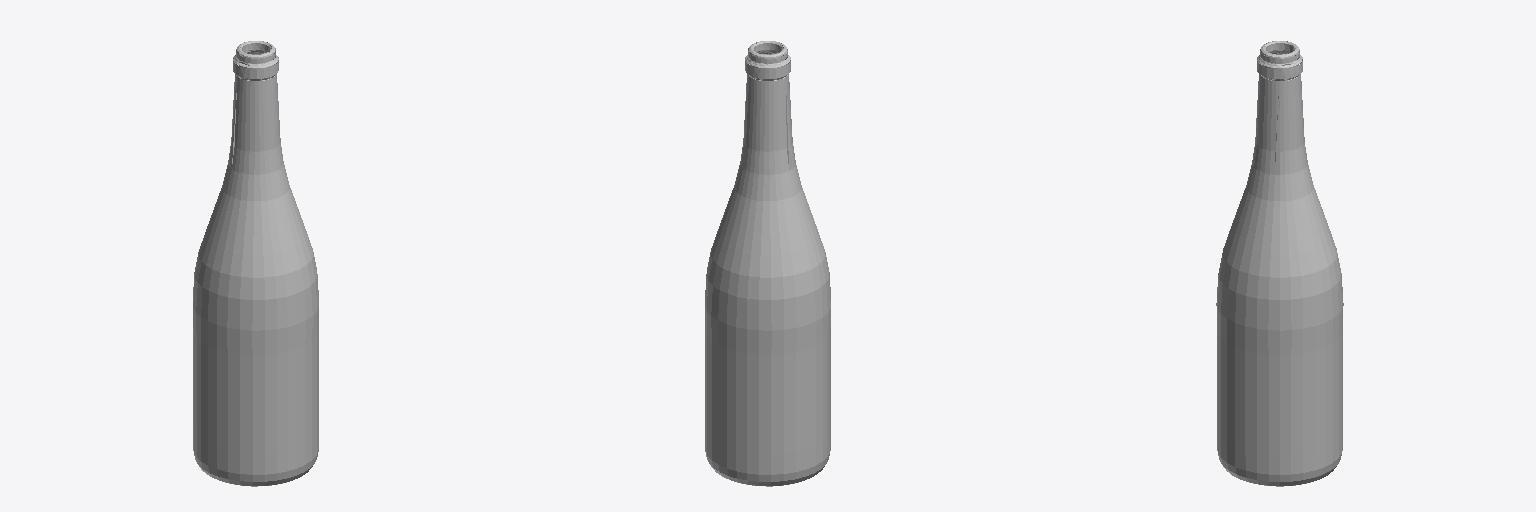
Rendered from bottle.obj.
3 views of the same model, side by side, from view 1: azimuth 30°, elevation 25°; view 2: azimuth 150°, elevation 25°; view 3: azimuth 270°, elevation 25° (orthographic).
Parts seen in each view (by area): view 1: object_1; view 2: object_1; view 3: object_1.
Part boxes in pixels (bbox=[...]): object_1: bbox=[193, 41, 318, 486]; object_1: bbox=[705, 41, 830, 486]; object_1: bbox=[1216, 41, 1343, 486].
Size of the model in its own units: 57.39 by 207 by 57.39.